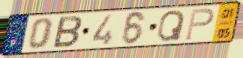0: (27, 17, 54, 51)
4: (90, 14, 114, 46)
6: (120, 11, 149, 47)
B: (51, 15, 83, 50)
P: (184, 7, 216, 42)
Q: (156, 9, 187, 43)
